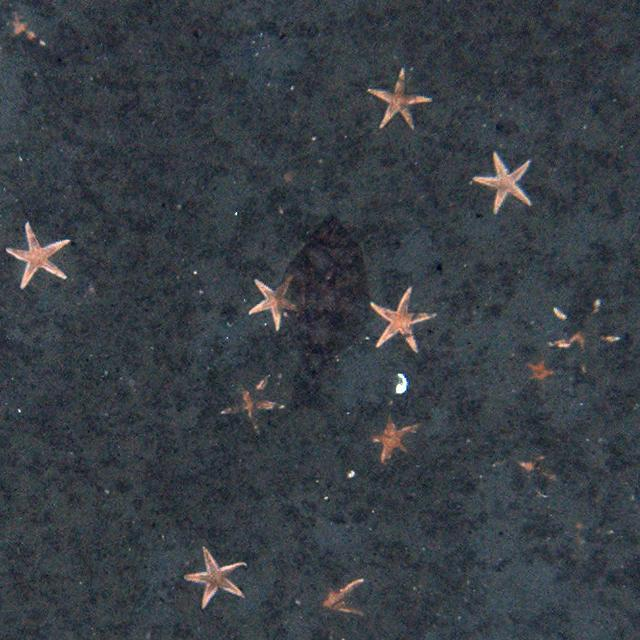flatfish: (278, 211, 368, 417)
